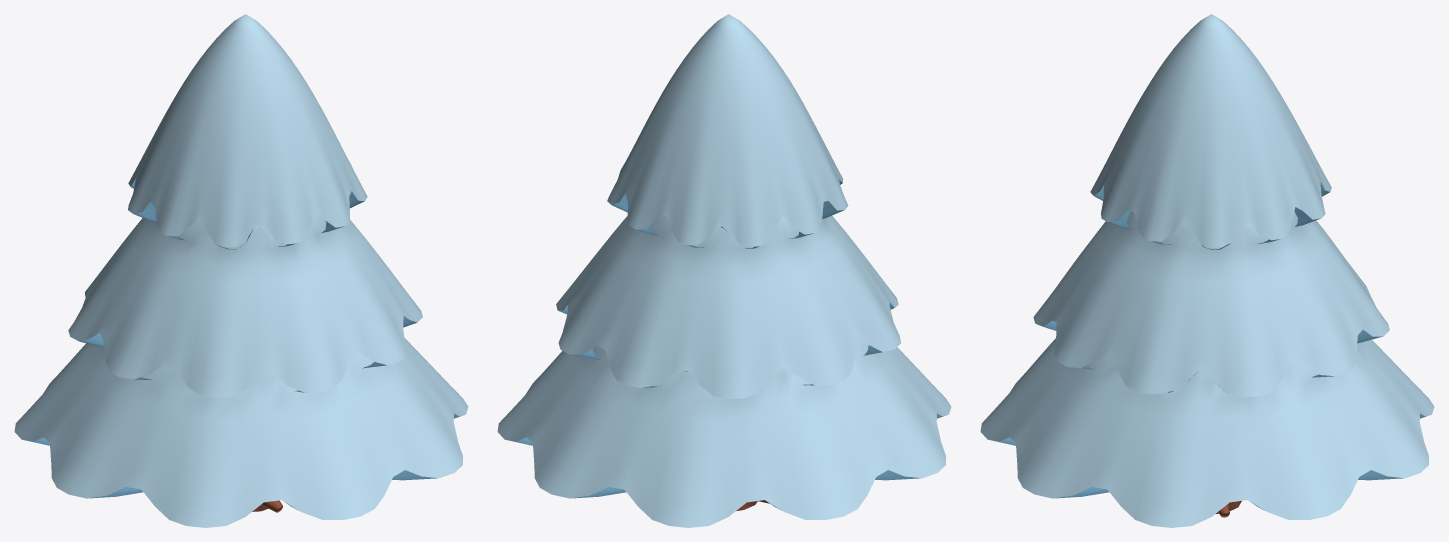
Rendered from pine_2.glb.
3 views of the same model, side by side, from view 1: azimuth 30°, elevation 25°; view 2: azimuth 150°, elevation 25°; view 3: azimuth 270°, elevation 25° (orthographic).
Visible parts, largest first — view 1: pine_2; view 2: pine_2; view 3: pine_2.
Part boxes in pixels (x1,y1,x2,y2): pine_2: [14, 14, 468, 527]; pine_2: [497, 14, 951, 527]; pine_2: [980, 14, 1434, 527].
Size of the model in its own units: 2.37 by 2.79 by 2.35.
Materials: 3 (3 with a texture image).
